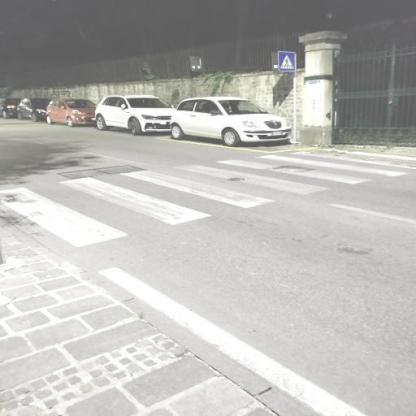crosswalk: (51, 162, 279, 228)
